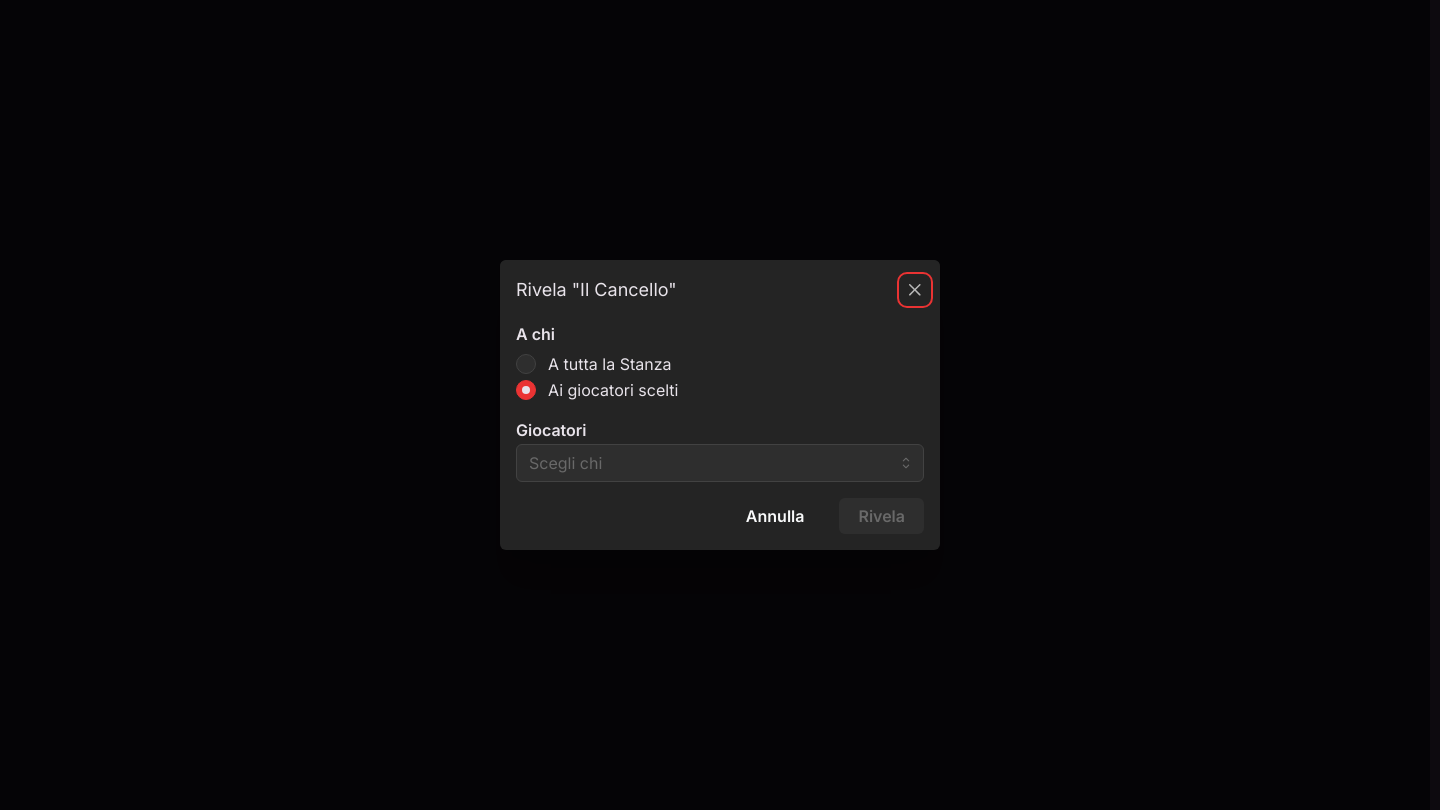
Test: RevealModal › says when nobody else gains access
Click the radio button labelled "A tutta la Stanza" at (526, 364), box [516,354,536,374]
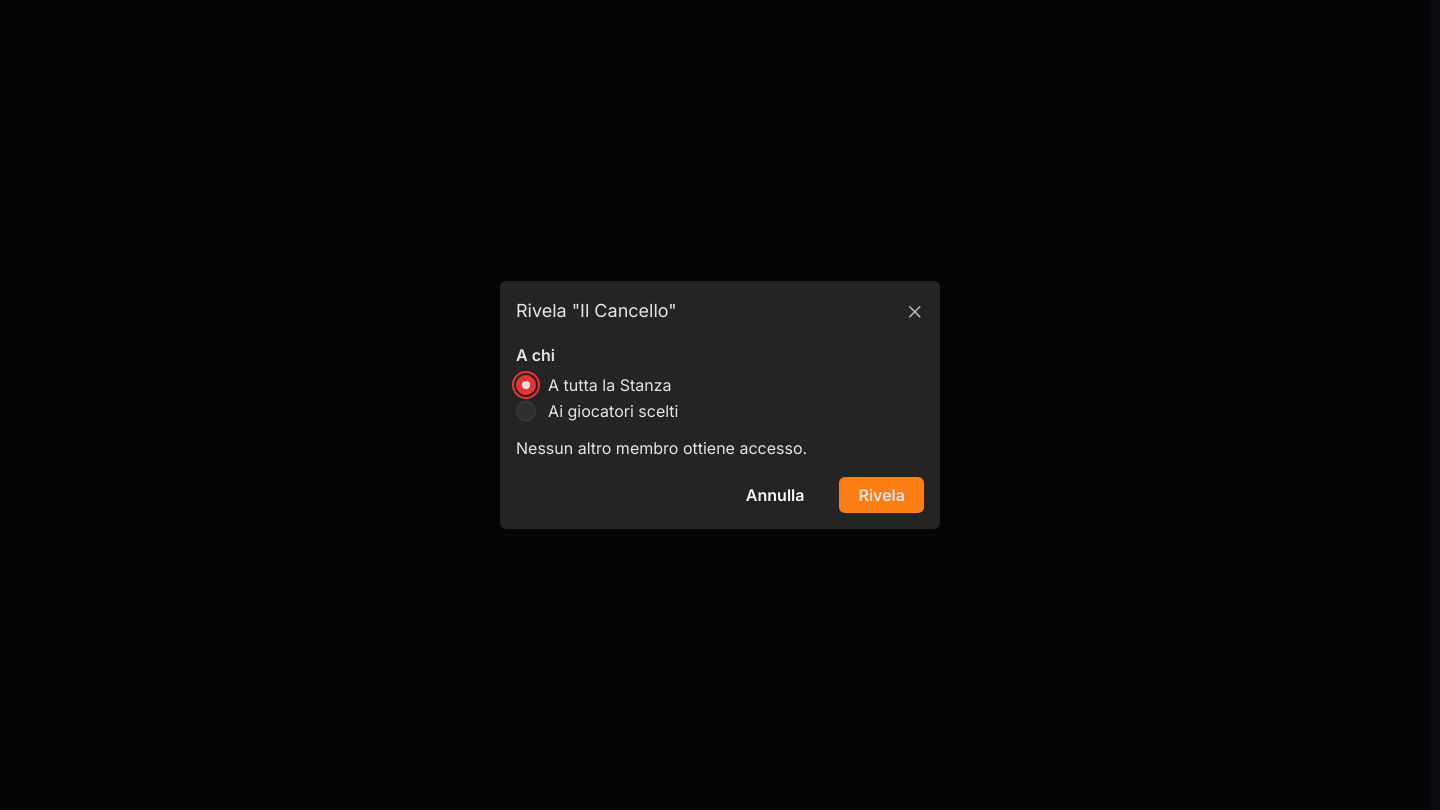
Expected: the text "Nessun altro membro ottiene accesso." is shown, [516,438,807,458]
